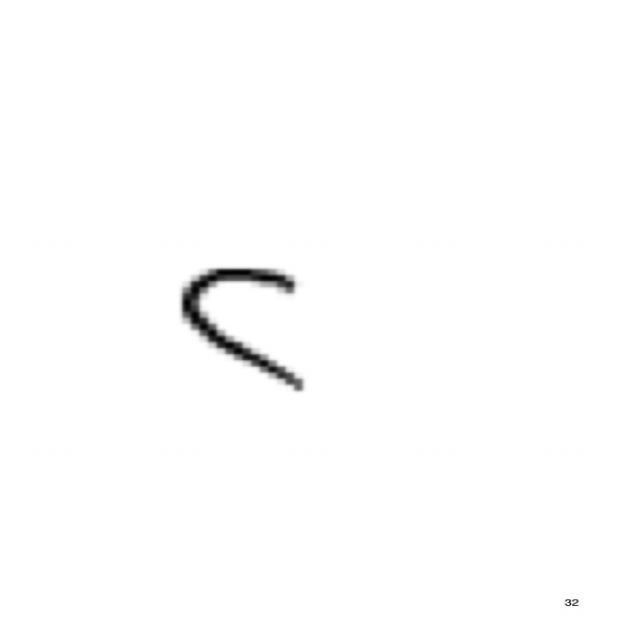2 -two-: (164, 253, 323, 404)
